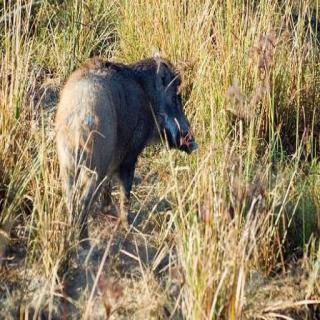Pig: (39, 56, 209, 235)
